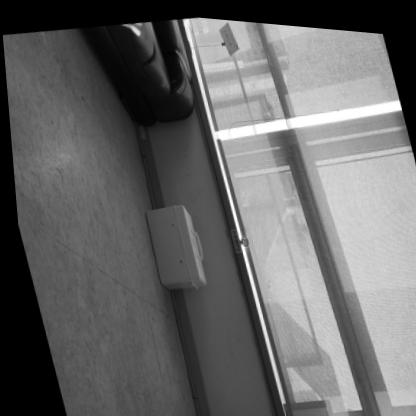DDL: (137, 197, 208, 287)
